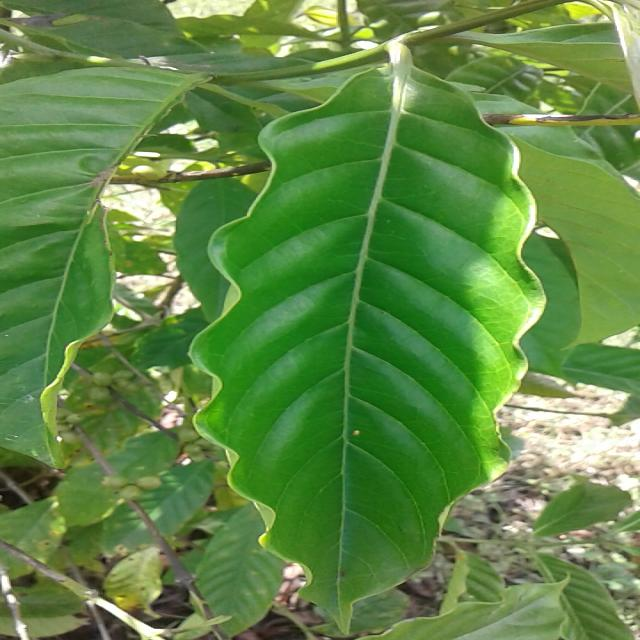Sanas: (177, 60, 548, 634)
